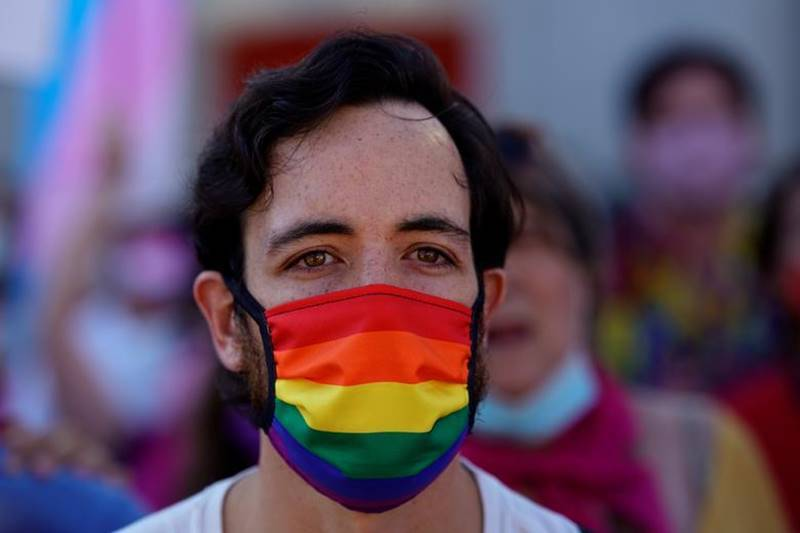with_mask: (209, 113, 527, 519)
